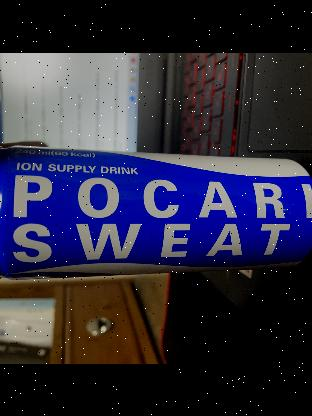Can: (0, 147, 312, 279)
